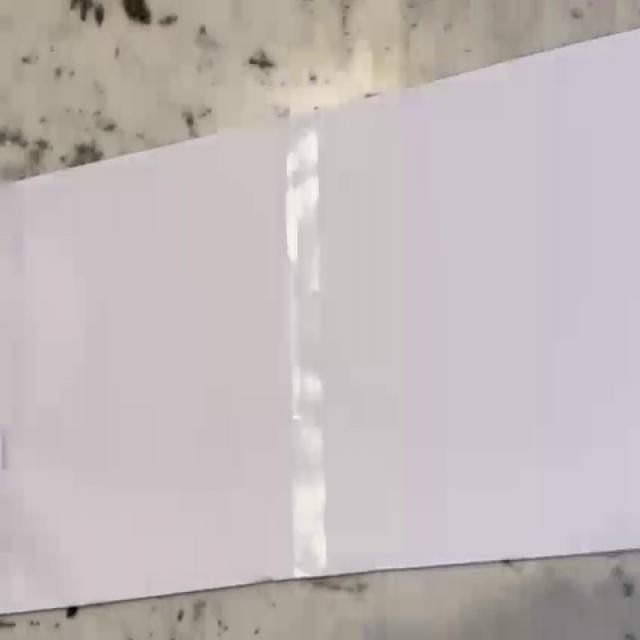road: (0, 28, 640, 612)
